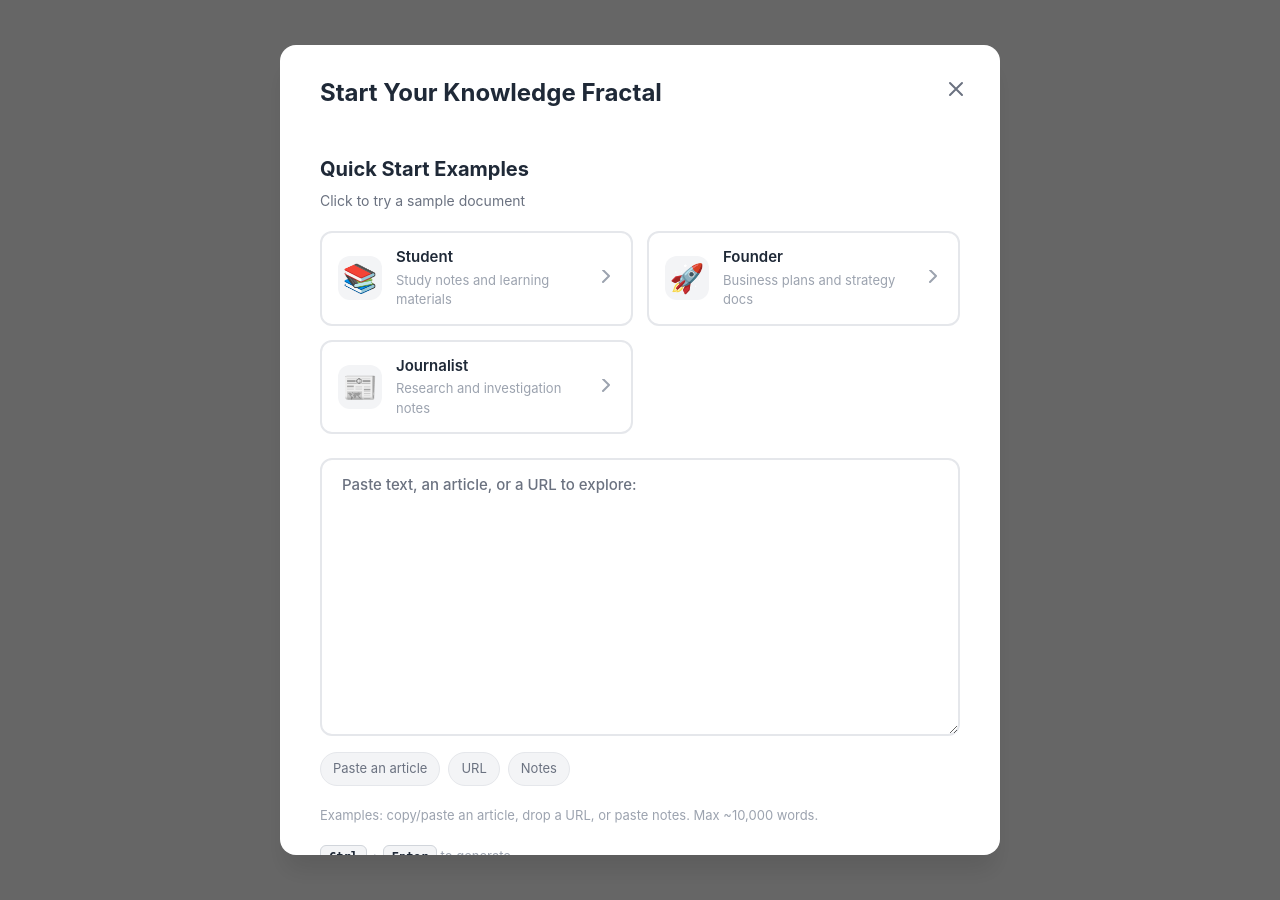
OnboardPopover › Demo Mode › should show FractalSeed during processing
Type "Test document" into the text box labelled "Paste text, an article, or a URL to explore:".
click(640, 597); type("Test document")  # box [320,458,960,736]
(page scrolled)
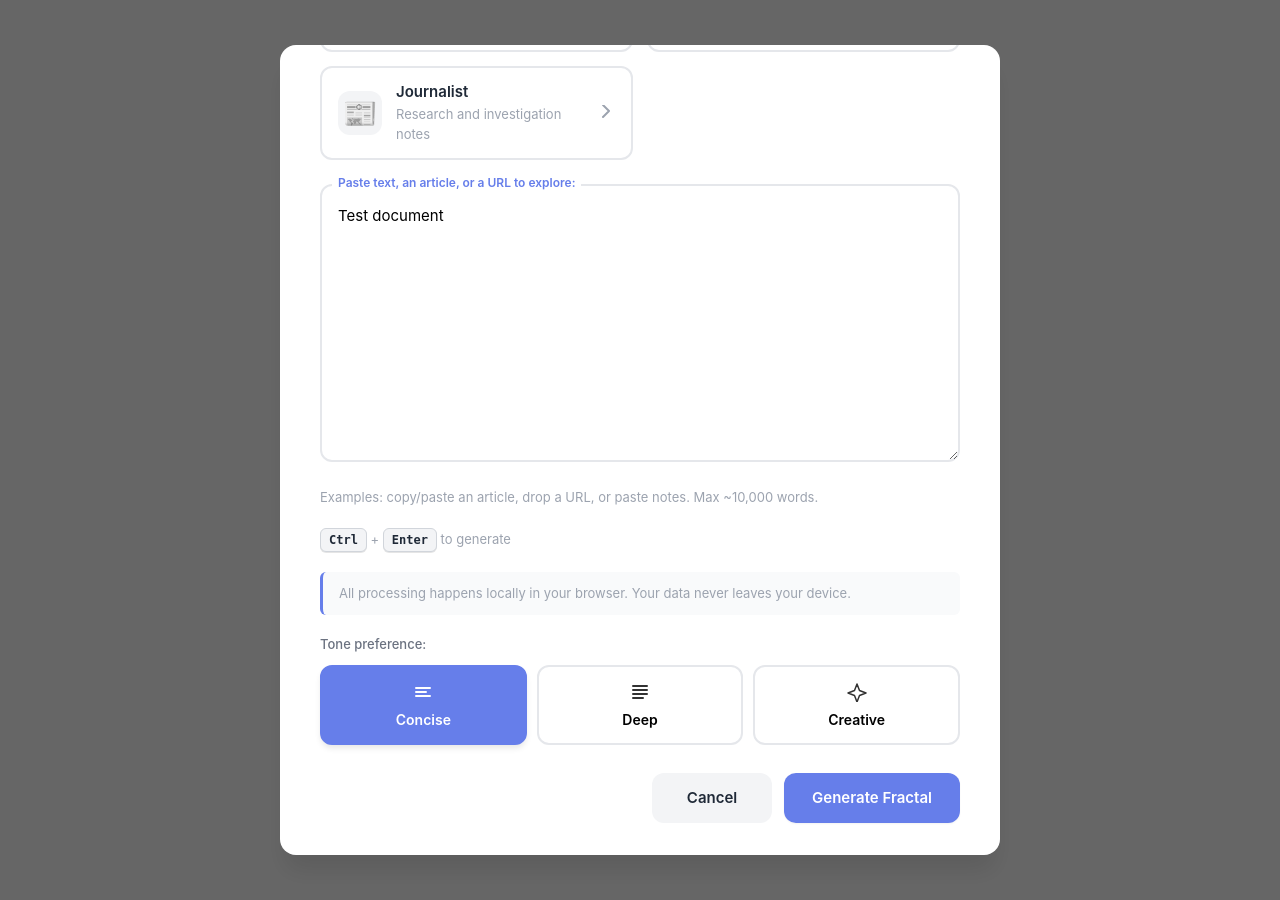
Click the button "Generate Fractal".
click(872, 798)  # box [784,773,960,823]
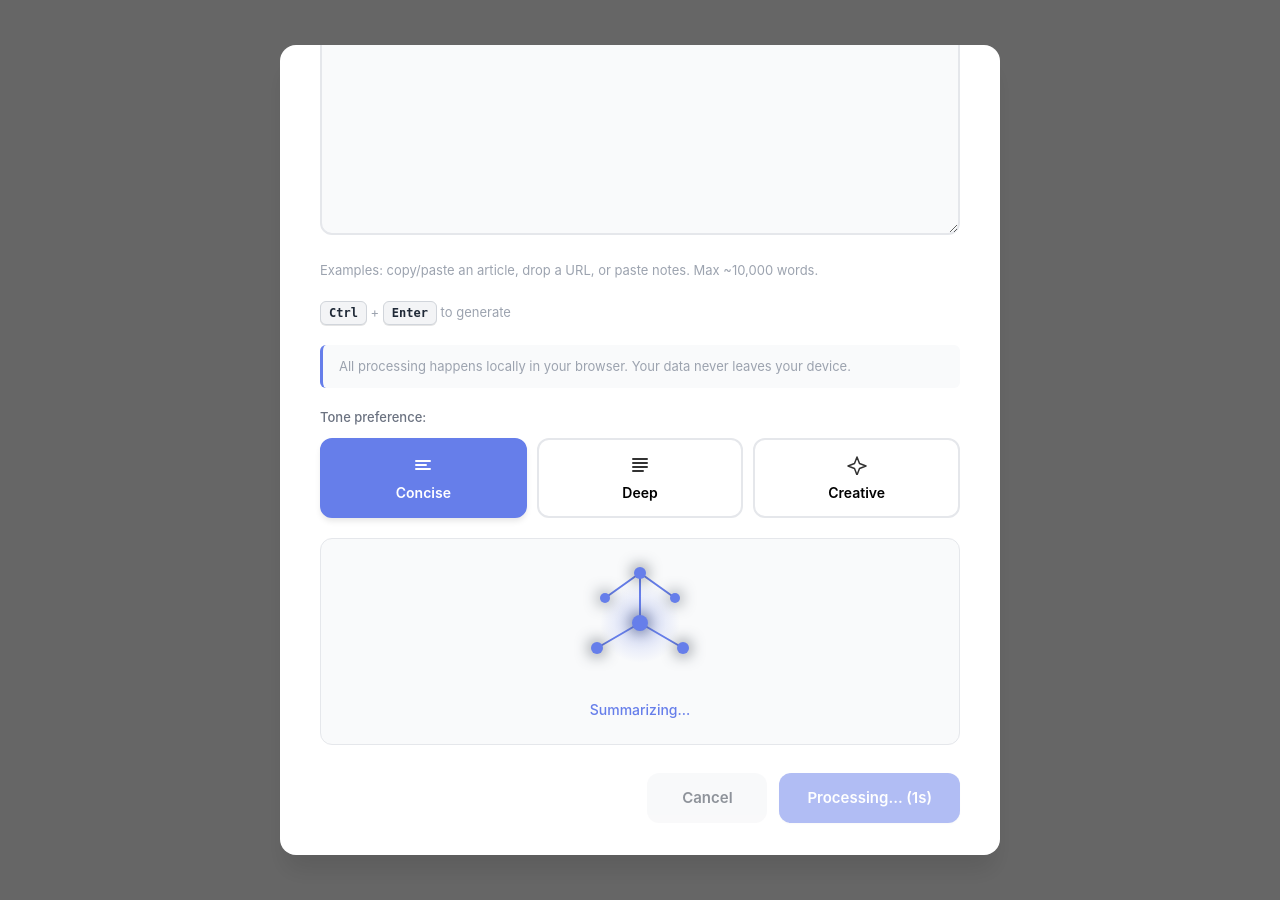
Expected: the element with class "onboard-seed" is shown, [580,563,700,683]
